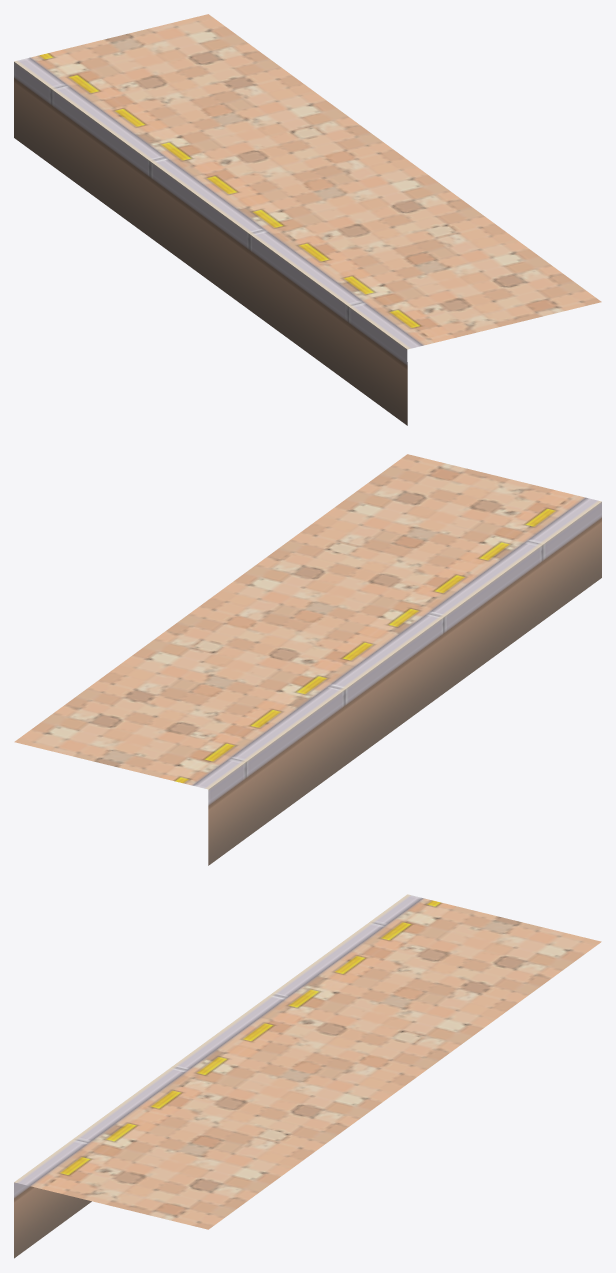
Rendered from PerronPiece_Menu.FBX.
The picture shows the model from 3 angles, top to bottom: view 1: azimuth 30°, elevation 25°; view 2: azimuth 150°, elevation 25°; view 3: azimuth 330°, elevation 25°; orthographic projection.
Visible parts, largest first — view 1: Object001; view 2: Object001; view 3: Object001.
Part boxes in pixels (box(x1,y1,x2,y2)): Object001: box(14, 14, 601, 425); Object001: box(14, 454, 601, 865); Object001: box(14, 894, 601, 1258).
Size of the model in its own units: 3149 by 1181 by 11036.
Materials: 1 (1 with a texture image).
